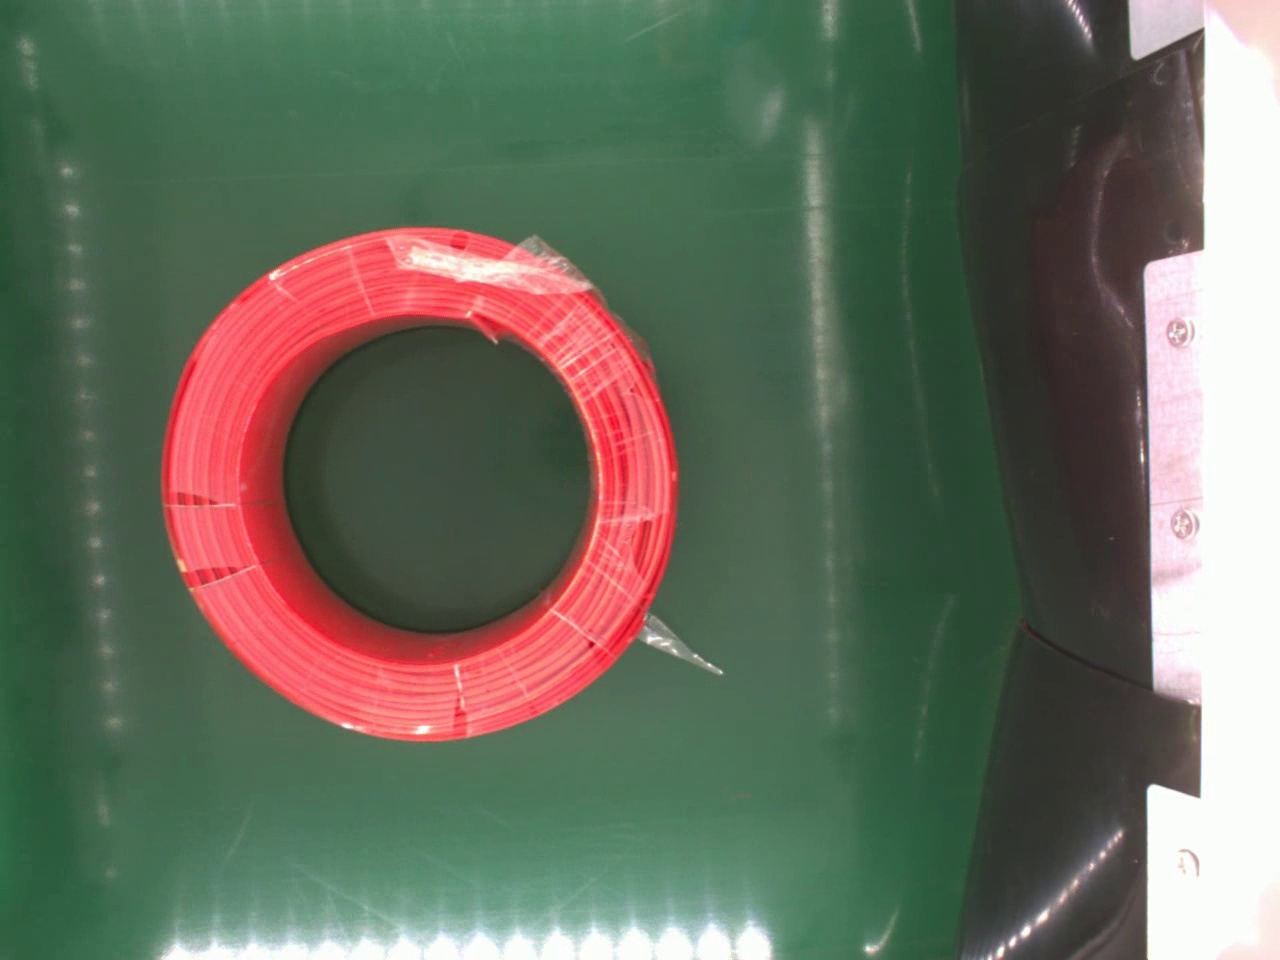red: (165, 218, 686, 737)
